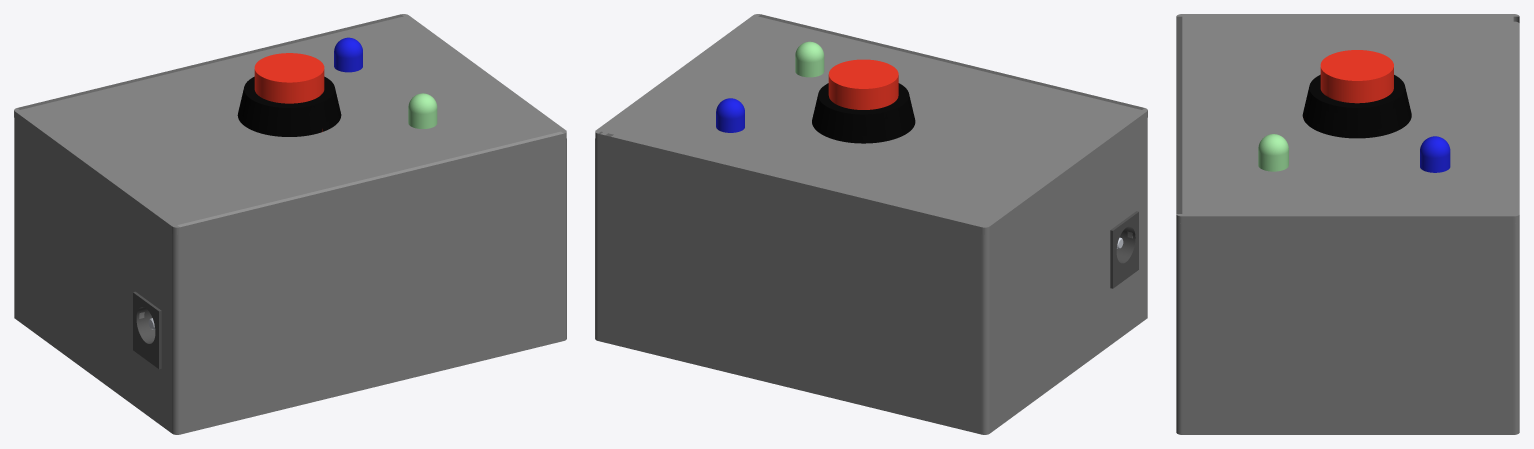
File: cajaMPNcerrada1.glb
The picture shows the model from 3 angles, left to right: view 1: azimuth 30°, elevation 25°; view 2: azimuth 150°, elevation 25°; view 3: azimuth 270°, elevation 25°; orthographic projection. The views are drawn at different scales.
Visible parts, largest first — view 1: caja.001, tapa.001, boton.001, obj14.002, ledVerde.001, ledAzul.001; view 2: caja.001, tapa.001, boton.001, obj14.002, ledVerde.001, ledAzul.001; view 3: caja.001, tapa.001, boton.001, ledVerde.001, ledAzul.001.
Boxes of the visible parts, x1,y1,x2,y2 form: caja.001: [14, 118, 566, 434]; tapa.001: [14, 14, 566, 234]; boton.001: [237, 53, 341, 136]; obj14.002: [133, 291, 161, 369]; ledVerde.001: [408, 93, 437, 128]; ledAzul.001: [334, 37, 362, 72]; caja.001: [595, 118, 1147, 434]; tapa.001: [595, 14, 1147, 234]; boton.001: [812, 59, 915, 143]; obj14.002: [1110, 211, 1138, 288]; ledVerde.001: [795, 41, 824, 77]; ledAzul.001: [716, 98, 744, 132]; caja.001: [1176, 21, 1519, 434]; tapa.001: [1176, 14, 1519, 223]; boton.001: [1302, 50, 1411, 138]; ledVerde.001: [1258, 134, 1288, 171]; ledAzul.001: [1420, 136, 1450, 172].
Bounding box in the file's own units: 78.78 × 48.66 × 56.1.
Materials: 7 (1 with a texture image).
